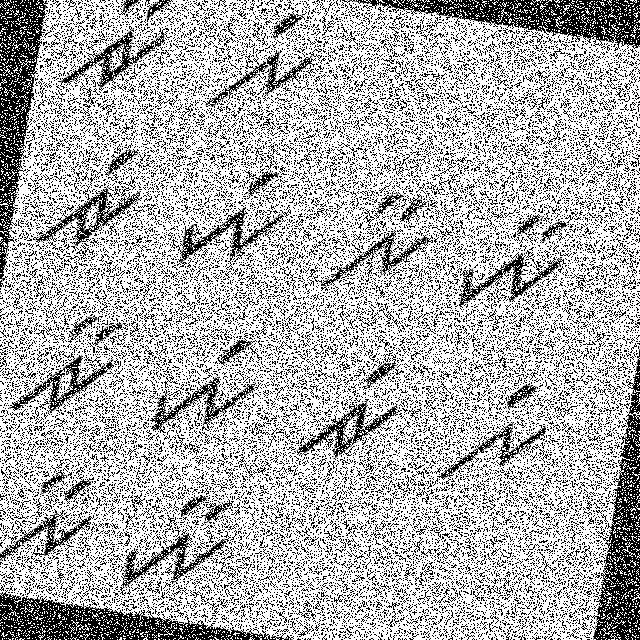lan: (314, 166, 444, 308), (0, 457, 101, 588)
lang: (429, 366, 556, 506), (203, 4, 326, 126)
ran: (0, 294, 124, 432), (59, 0, 190, 109)
rang: (282, 343, 412, 482), (27, 134, 154, 262)
yan: (448, 194, 582, 328), (108, 484, 245, 608)
yang: (138, 319, 278, 453), (166, 150, 298, 282)
